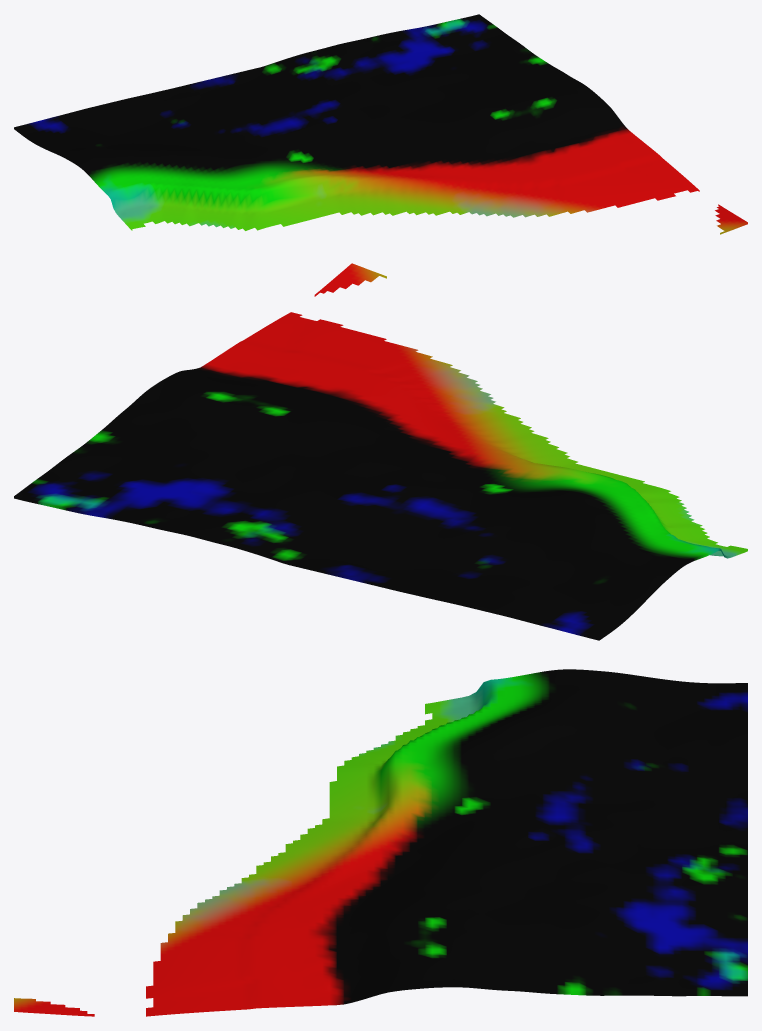
The model's file is coast_-800_-800_400.glb.
3 renders of one model, top to bottom at view 1: azimuth 30°, elevation 25°; view 2: azimuth 150°, elevation 25°; view 3: azimuth 270°, elevation 25°, orthographic. The views are drawn at different scales.
Parts seen in each view (by area): view 1: terrain; view 2: terrain; view 3: terrain.
Boxes of the visible parts, x1=… form: terrain: x1=14, y1=14, x2=747, y2=234; terrain: x1=14, y1=263, x2=747, y2=640; terrain: x1=14, y1=669, x2=747, y2=1016.
Size of the model in its own units: 400 by 24.56 by 400.
